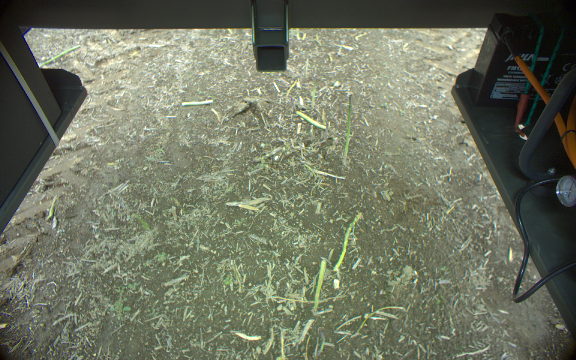aspa: (333, 208, 364, 273), (342, 91, 356, 167), (296, 106, 330, 135), (310, 260, 325, 313)
